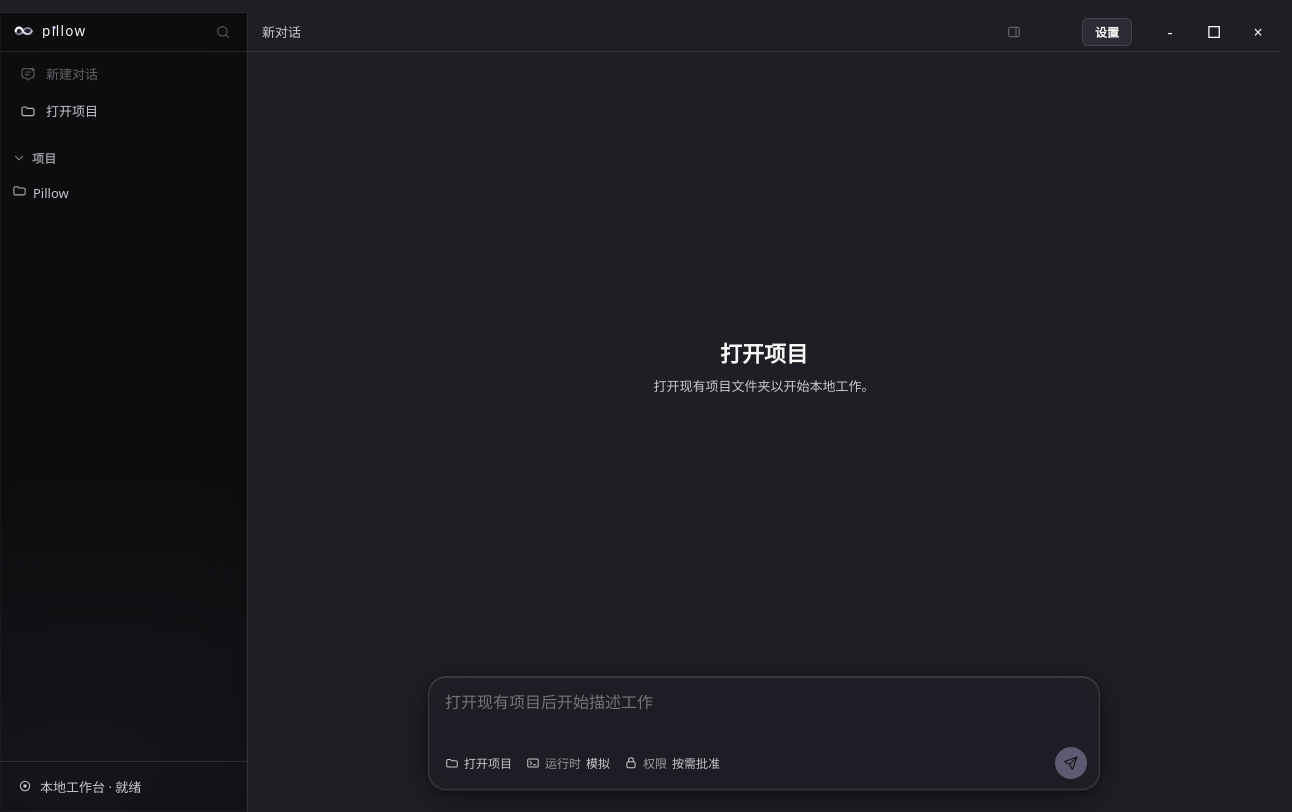
it: project workbench shell › keeps the selected project visible above its nested conversations
Click the button "Pillow": (124,192) [4,176,243,209]
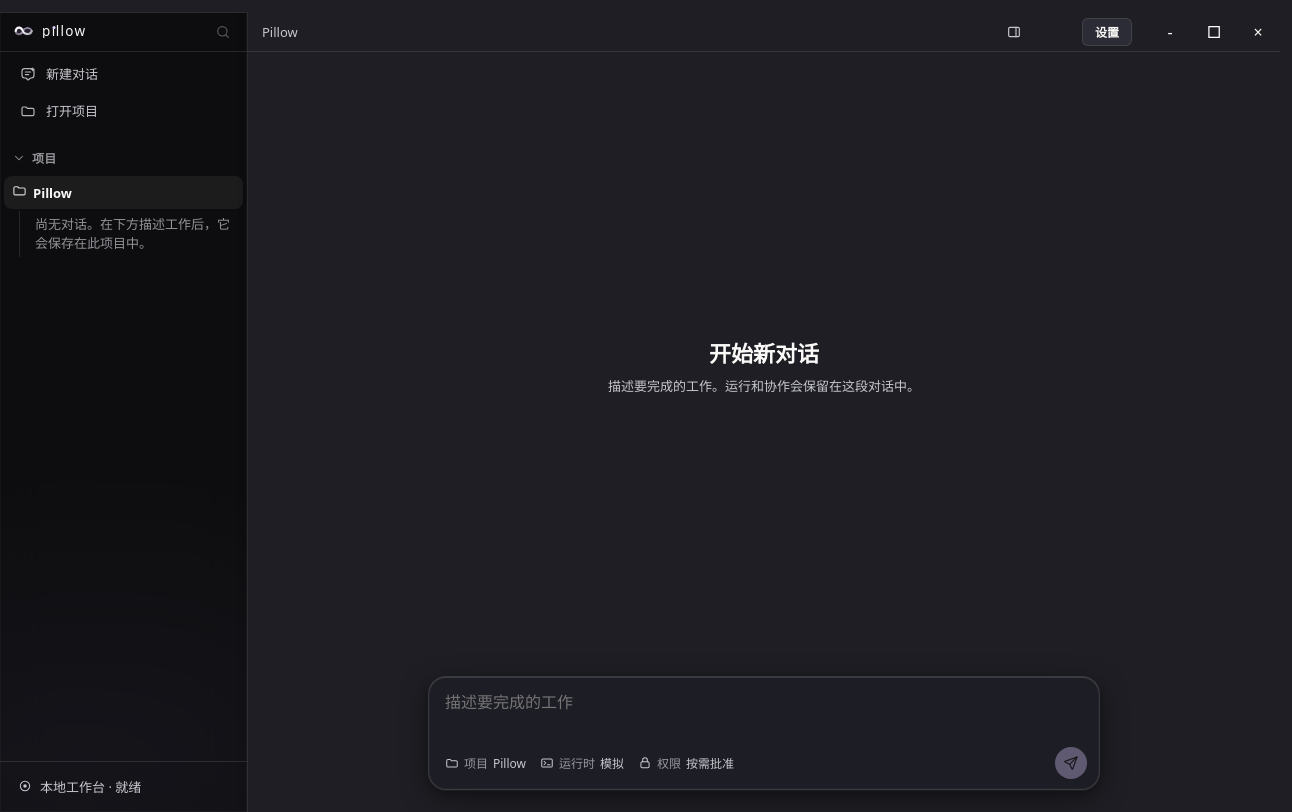
expect the heading with test id "active-project-name" reads "Pillow": met, box [262,22,298,40]
expect the element named "项目对话" is shown: met, box [19,211,243,257]
expect the element named "项目：Pillow" is shown: met, box [441,749,530,777]
